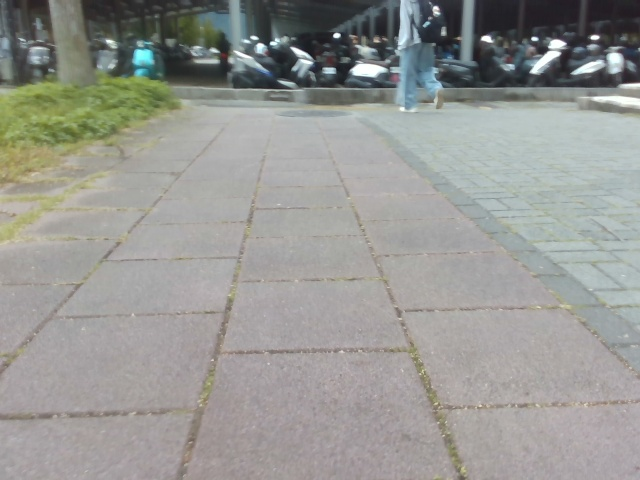grass: (0, 0, 186, 191)
road: (0, 102, 639, 479)
